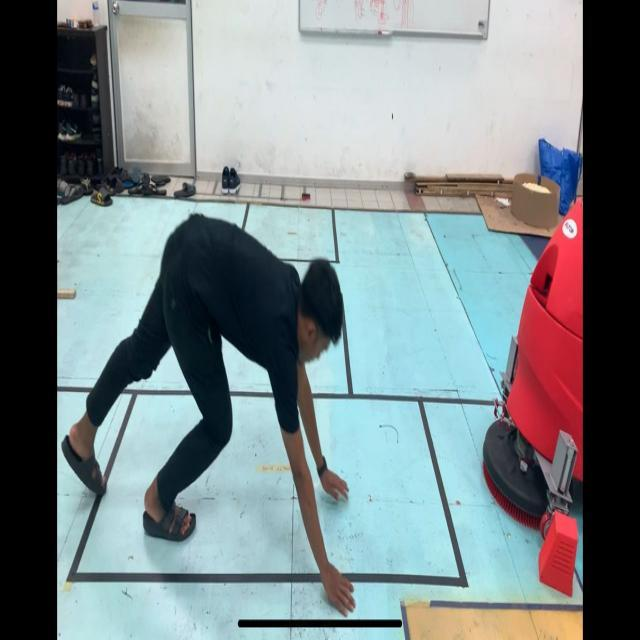fall: (72, 225, 357, 612)
